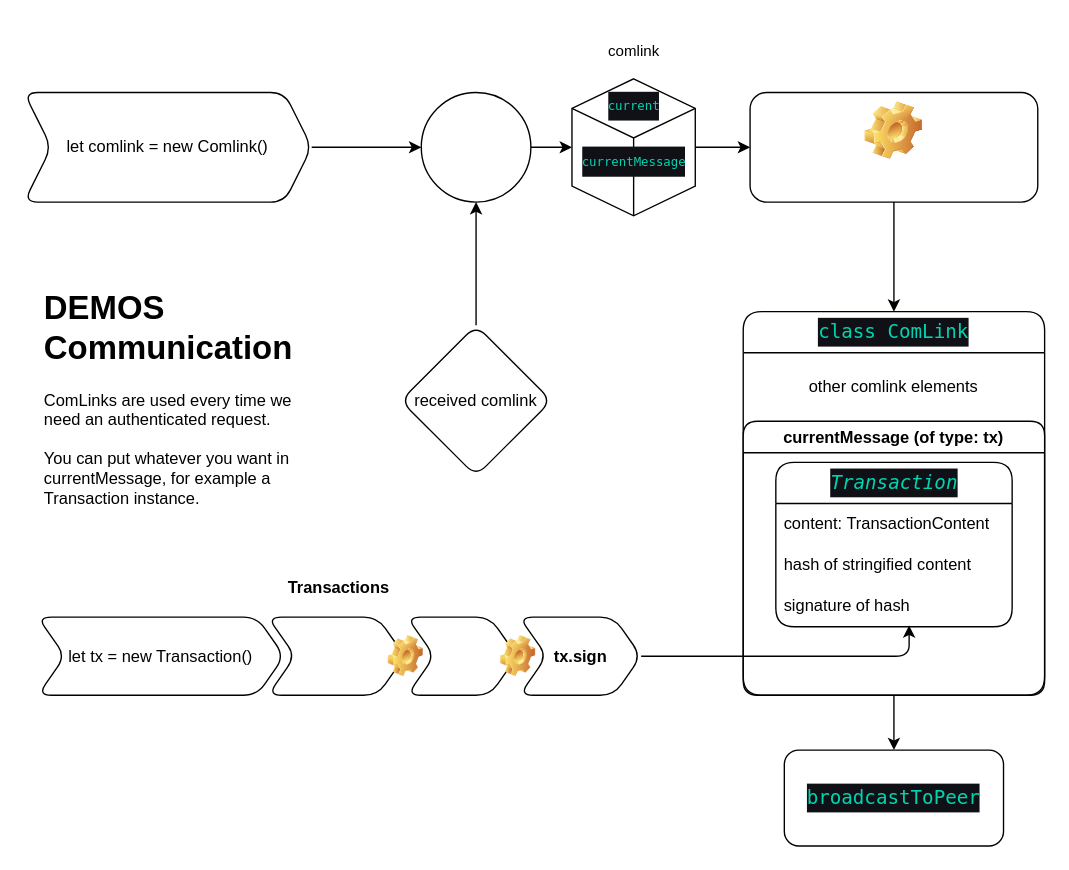
This 1069x870 diagram has some shape labels left out. Each missing label, with the centre of its shape:
hashAndSignCurrent: point (893, 146)
populate: point (475, 146)
populate tx.content: point (335, 655)
tx.hash: point (461, 655)
